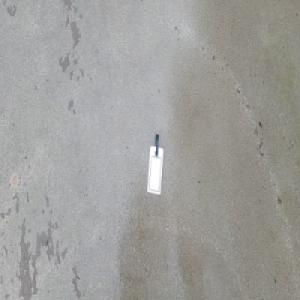LuggageTag: (146, 133, 164, 195)
